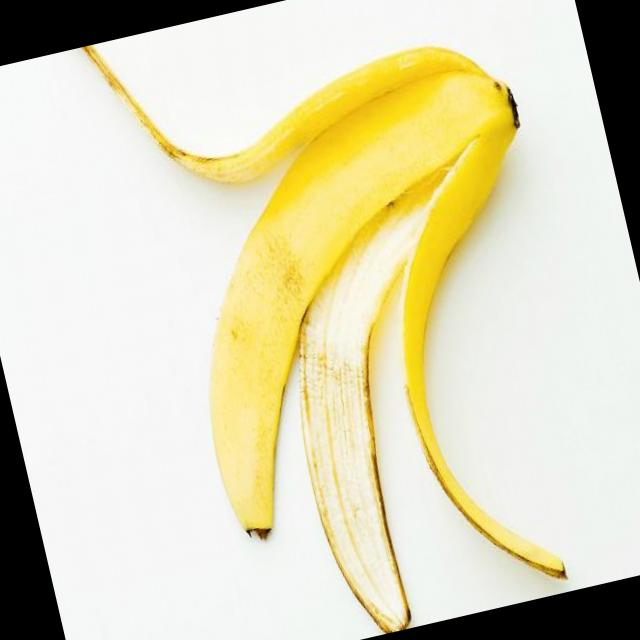banana: (134, 27, 640, 640)
